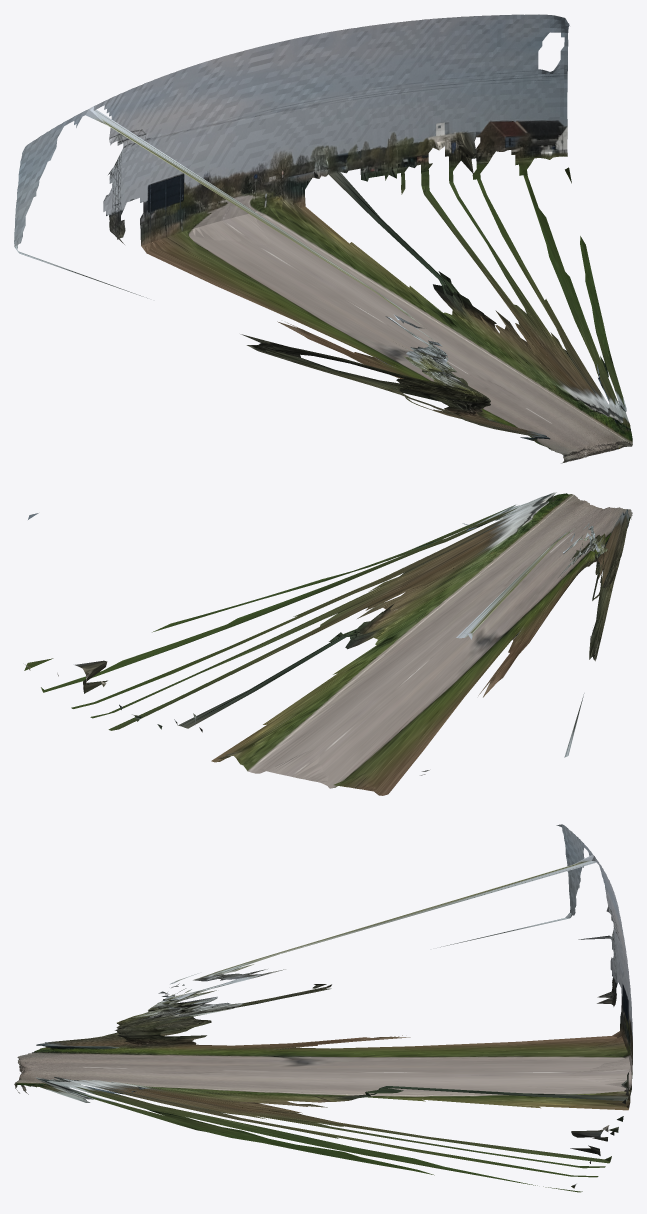
3 views of the same model, one above another, from view 1: azimuth 30°, elevation 25°; view 2: azimuth 150°, elevation 25°; view 3: azimuth 270°, elevation 25° (orthographic). The views are drawn at different scales.
Parts seen in each view (by area): view 1: defaultobject; view 2: defaultobject; view 3: defaultobject.
Boxes of the visible parts, x1=… form: defaultobject: x1=14, y1=14, x2=632, y2=463; defaultobject: x1=23, y1=492, x2=632, y2=795; defaultobject: x1=14, y1=824, x2=632, y2=1192.
Size of the model in its own units: 41.14 by 12.77 by 44.46.
1 material, 1 textured.
